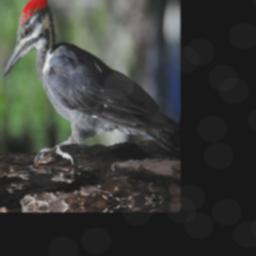Woodpecker: (0, 0, 178, 170)
